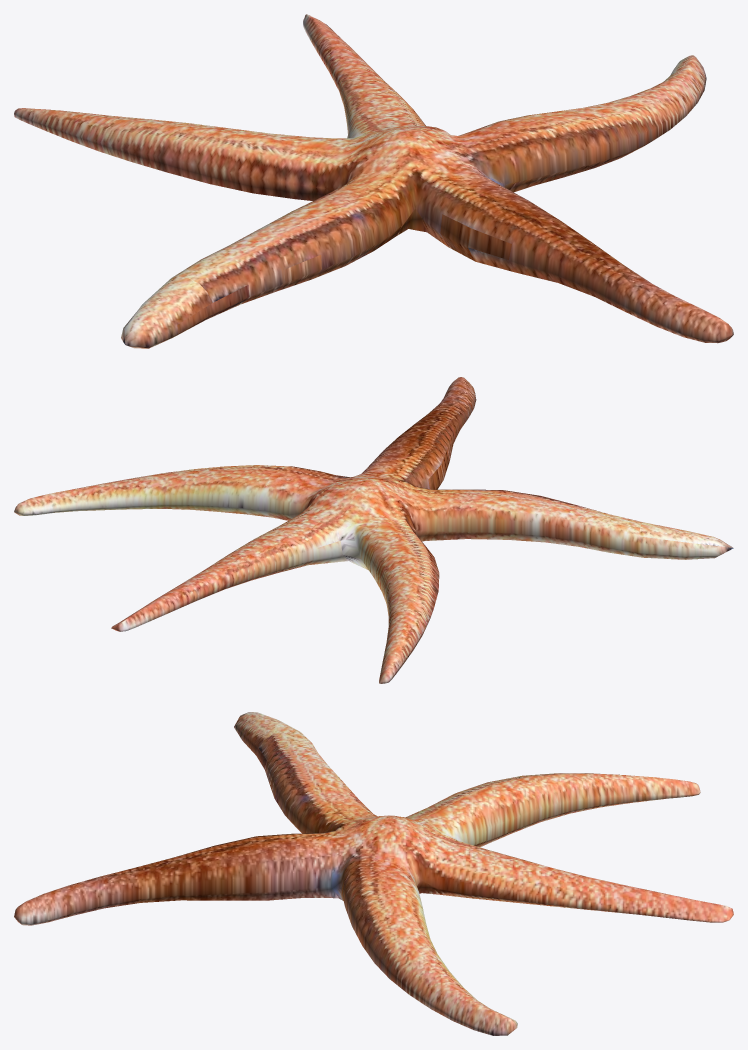
Rendered from EstrellaGrande.glb.
3 views of the same model, one above another, from view 1: azimuth 30°, elevation 25°; view 2: azimuth 150°, elevation 25°; view 3: azimuth 270°, elevation 25° (orthographic). The views are drawn at different scales.
Parts seen in each view (by area): view 1: Cube; view 2: Cube; view 3: Cube.
Boxes of the visible parts, <box> form: Cube: <box>14,14,733,348</box>; Cube: <box>14,377,733,683</box>; Cube: <box>14,712,733,1035</box>.
Bounding box in the file's own units: 2.33 × 0.2447 × 2.34.
1 material, 1 textured.
